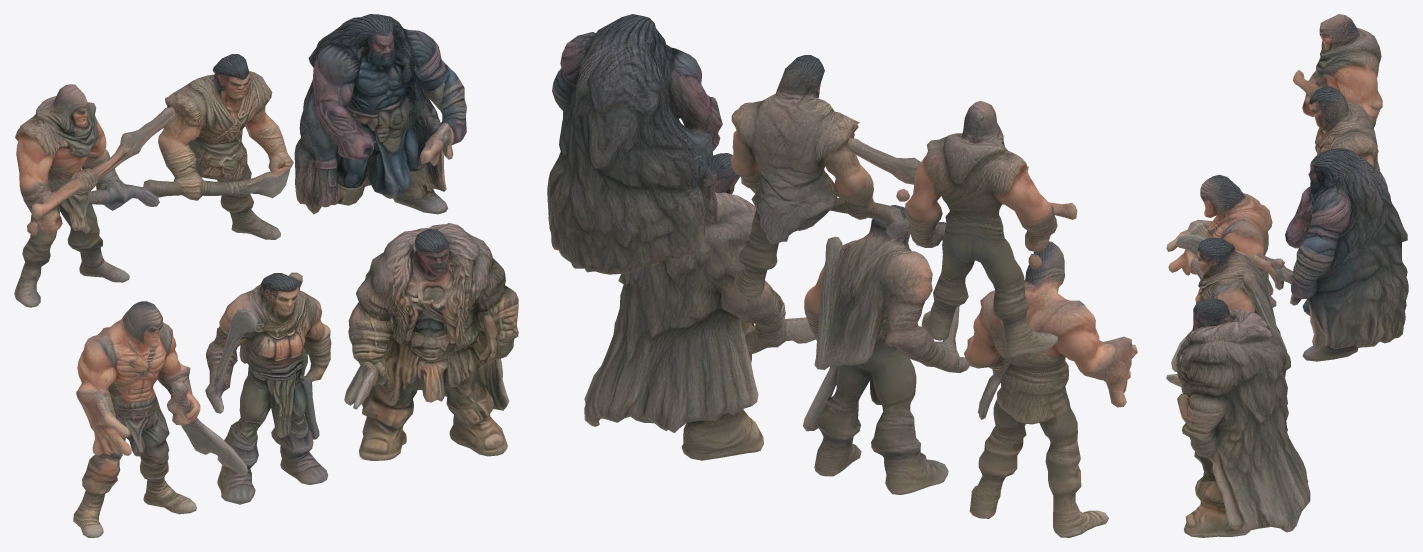
The model's file is enemies_warlords.glb.
3 views of the same model, side by side, from view 1: azimuth 30°, elevation 25°; view 2: azimuth 150°, elevation 25°; view 3: azimuth 270°, elevation 25° (orthographic). The views are drawn at different scales.
Size of the model in its own units: 1.9 by 1.64 by 0.9824.
1 material, 1 textured.
